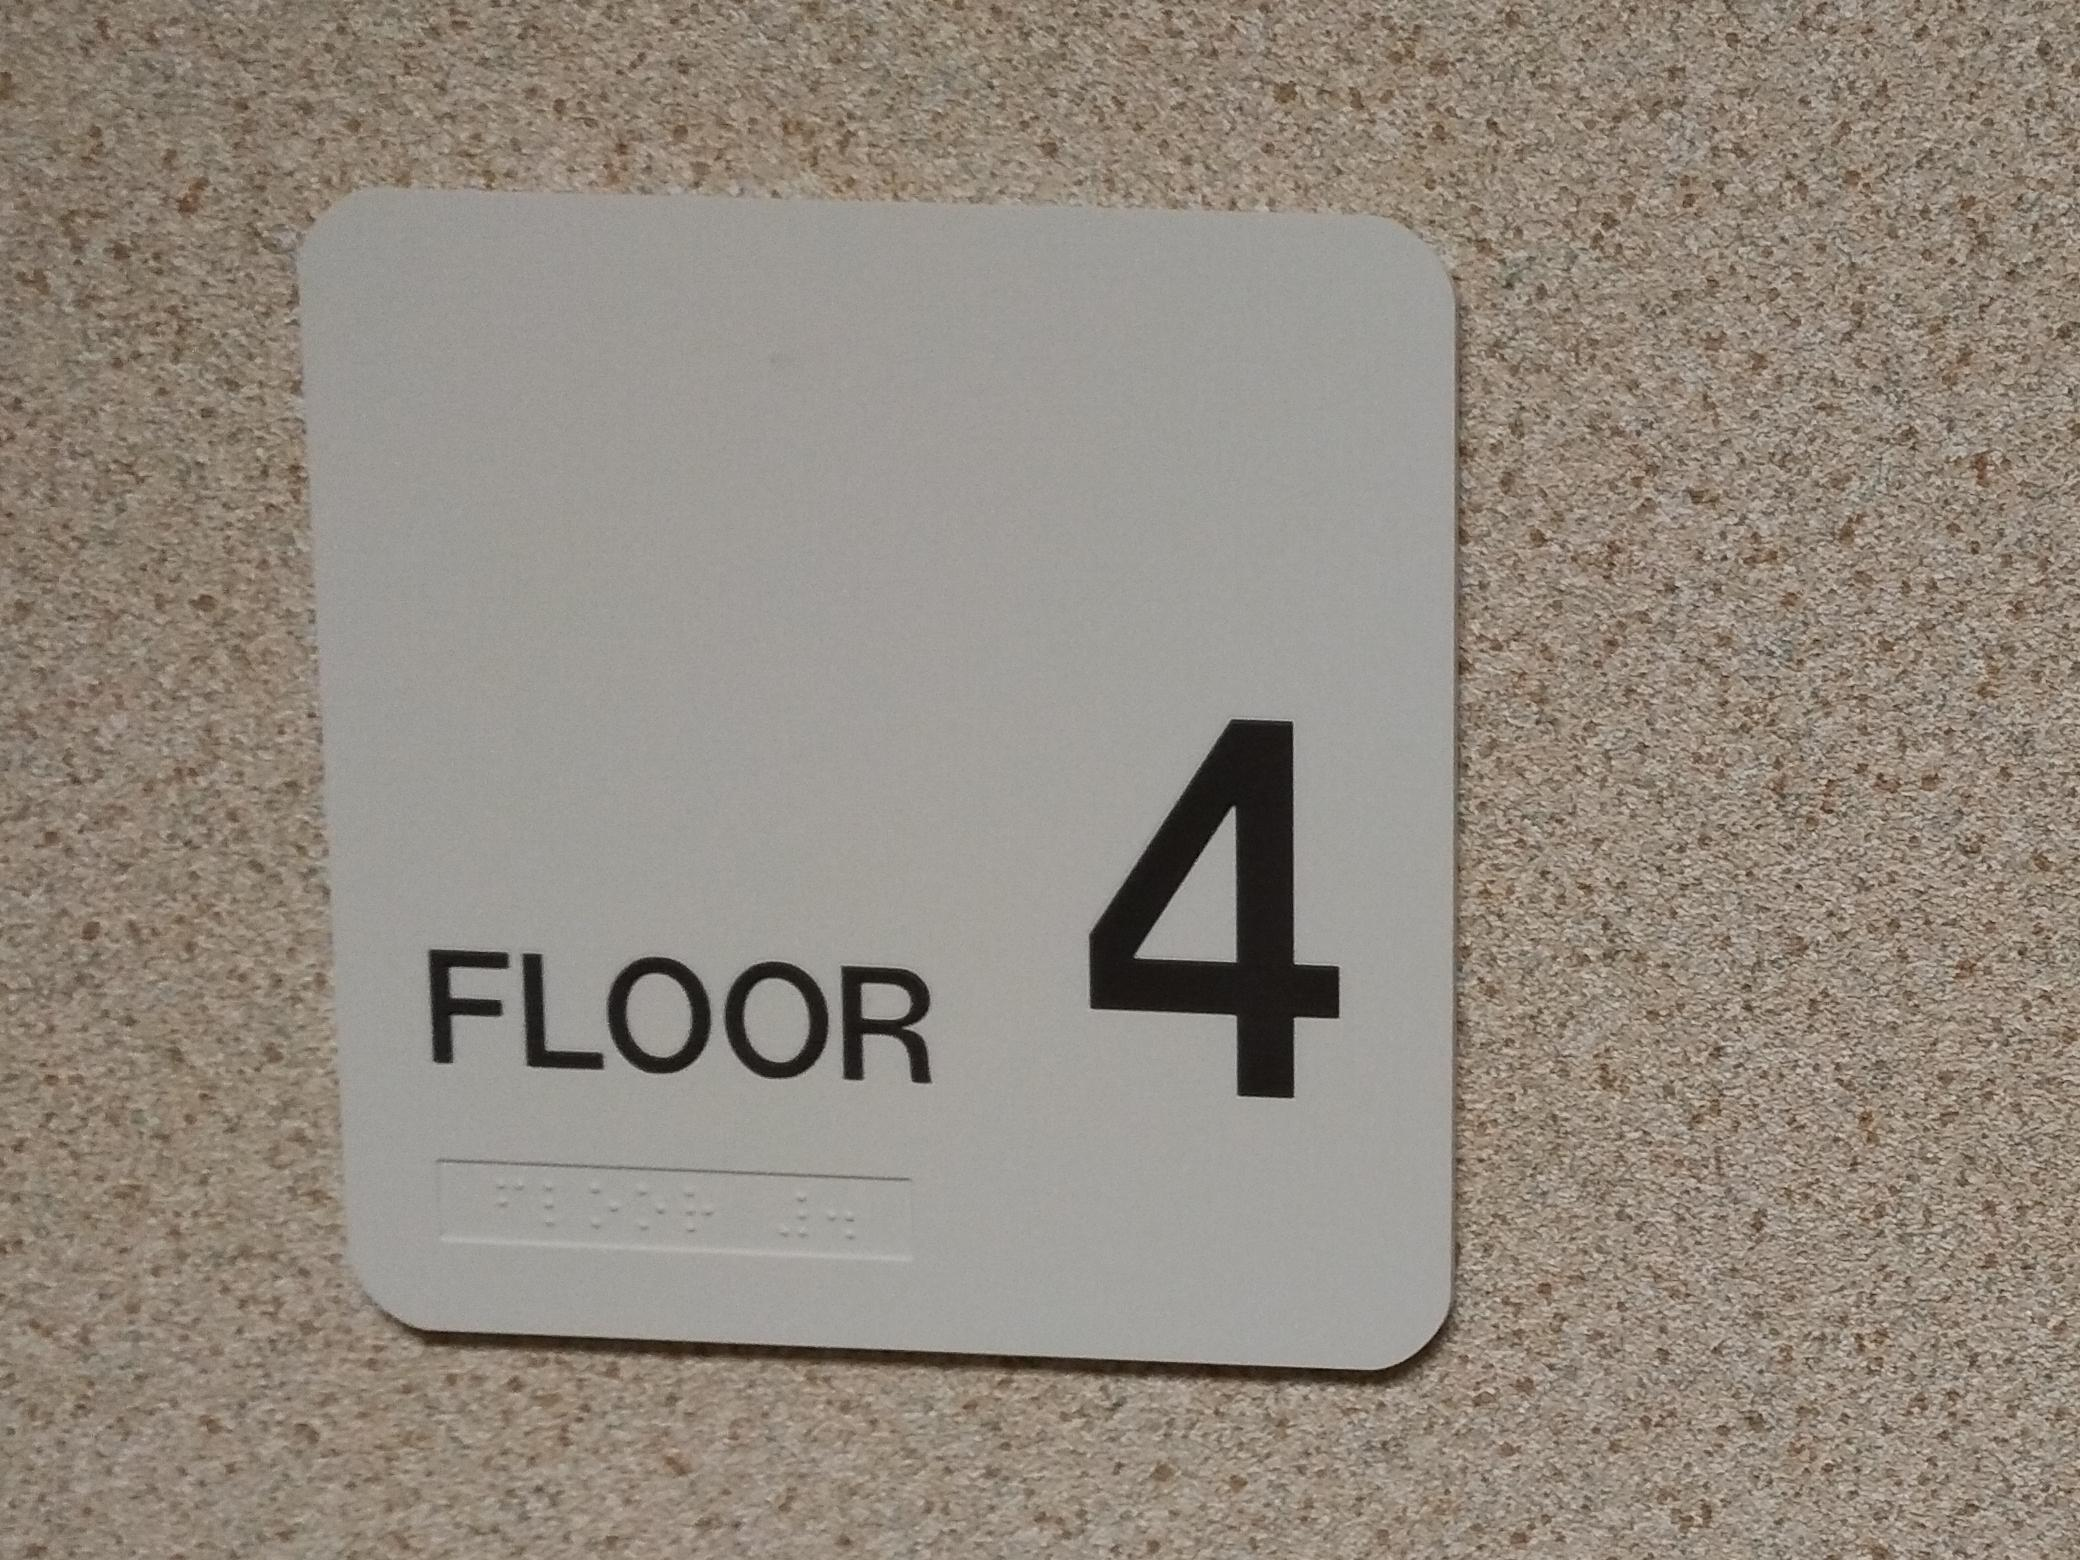sign: (296, 188, 1458, 1368)
